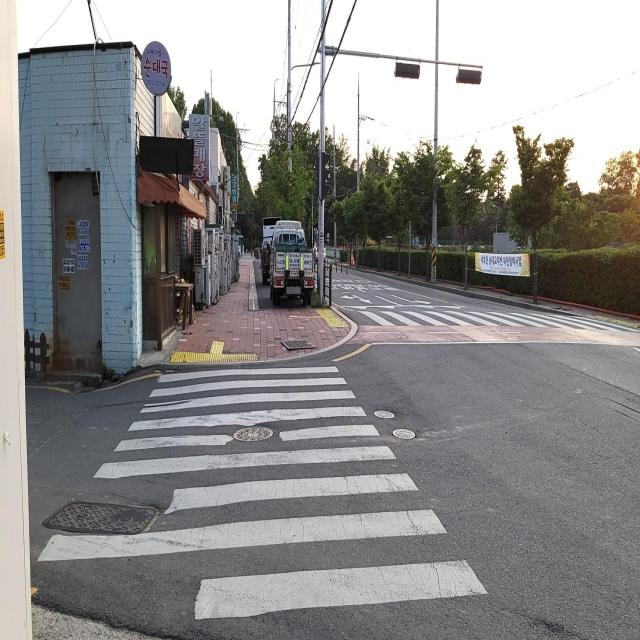횡단보도: (33, 360, 491, 626), (341, 298, 639, 330)
